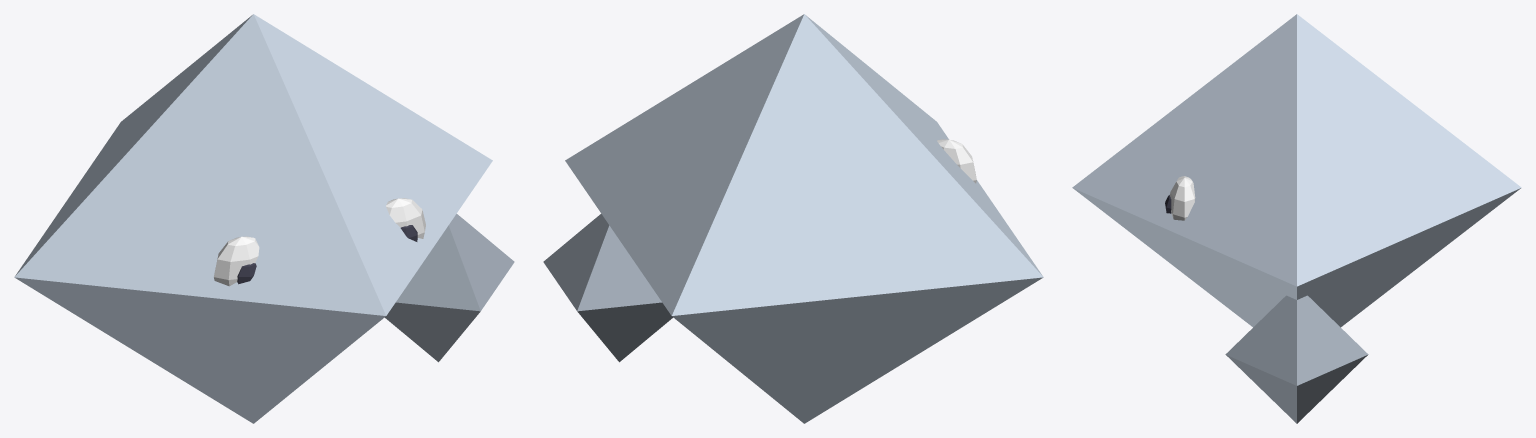
Rendered from coldvault.glb.
3 views of the same model, side by side, from view 1: azimuth 30°, elevation 25°; view 2: azimuth 150°, elevation 25°; view 3: azimuth 270°, elevation 25° (orthographic). The views are drawn at different scales.
Visible parts, largest first — view 1: coldvault; view 2: coldvault; view 3: coldvault.
Part boxes in pixels (box(x1,y1,x2,y2)): coldvault: box(14, 14, 514, 423); coldvault: box(543, 14, 1043, 423); coldvault: box(1072, 14, 1521, 423).
Bounding box in the file's own units: 1.87 × 1.46 × 1.72.
